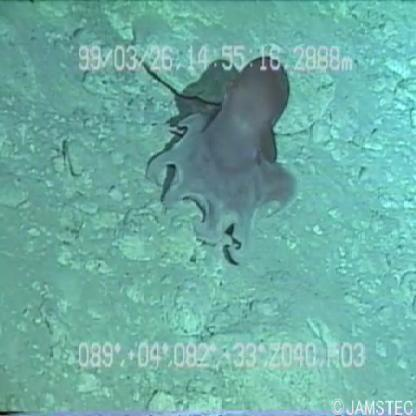Bio: (145, 52, 302, 272)
